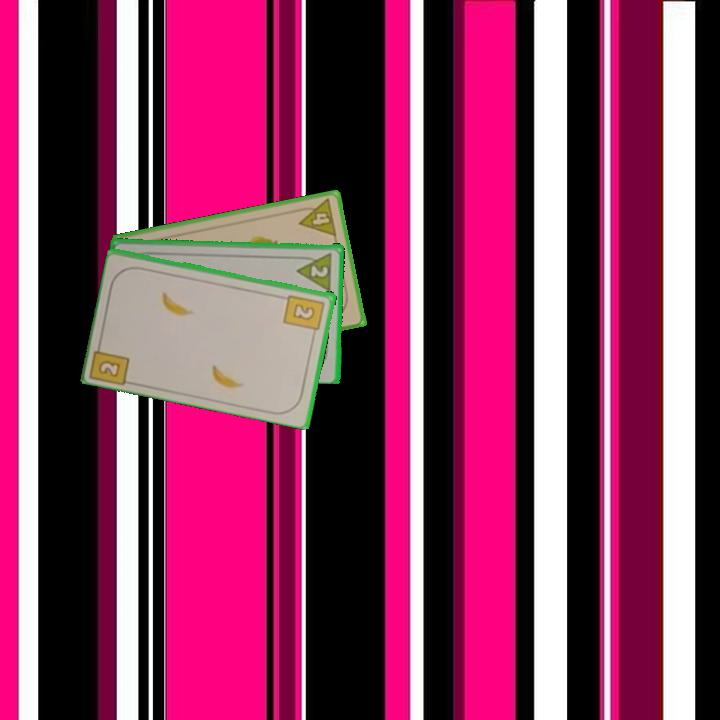2b: (89, 336, 133, 387), (281, 291, 327, 339)
2p: (294, 248, 335, 292)
4p: (293, 195, 339, 239)
